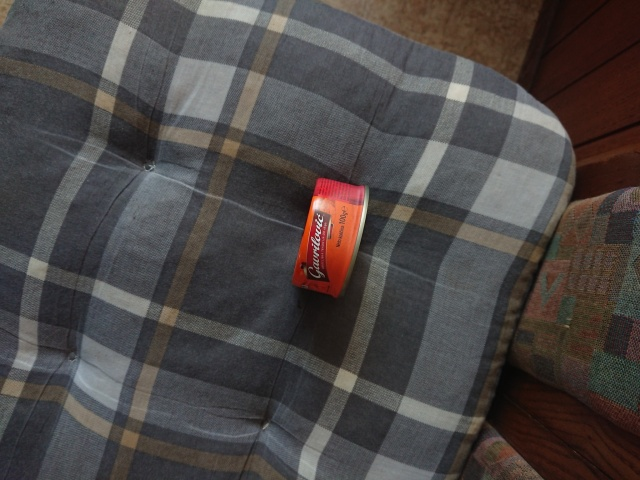Gavrilovic Pork Liver Pate 100g: (288, 174, 373, 302)
